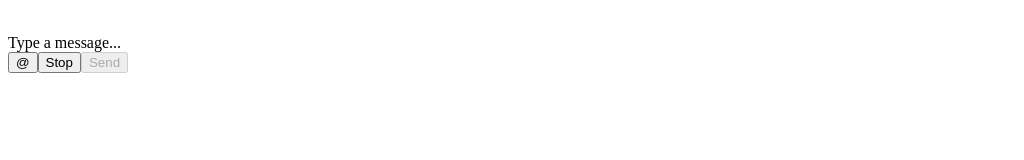
it: composer toolbar › gating on canCompose › keeps the trigger button usable while a turn streams with the queue on
The image size is (1024, 160).
Expected: the button "Stop" is shown, [38, 52, 81, 73]
Expected: the button "Send" is shown, [81, 52, 128, 73]
Click the button named "Mention someone" at (23, 62), box [8, 52, 38, 73]
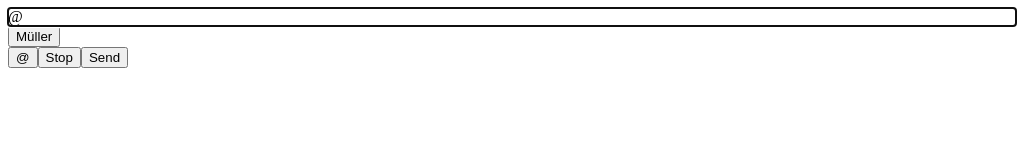
Now the field reads "@", box [8, 8, 23, 25]
Now the option "Müller" is shown, box [8, 26, 60, 47]
